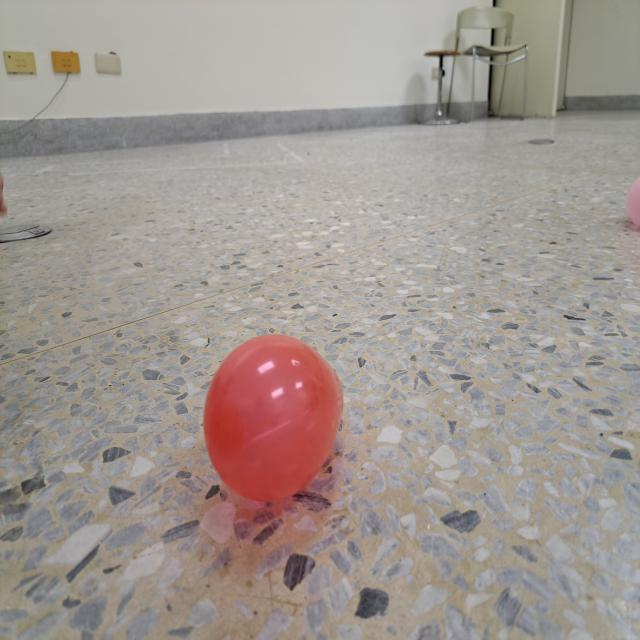red: (203, 331, 345, 503)
